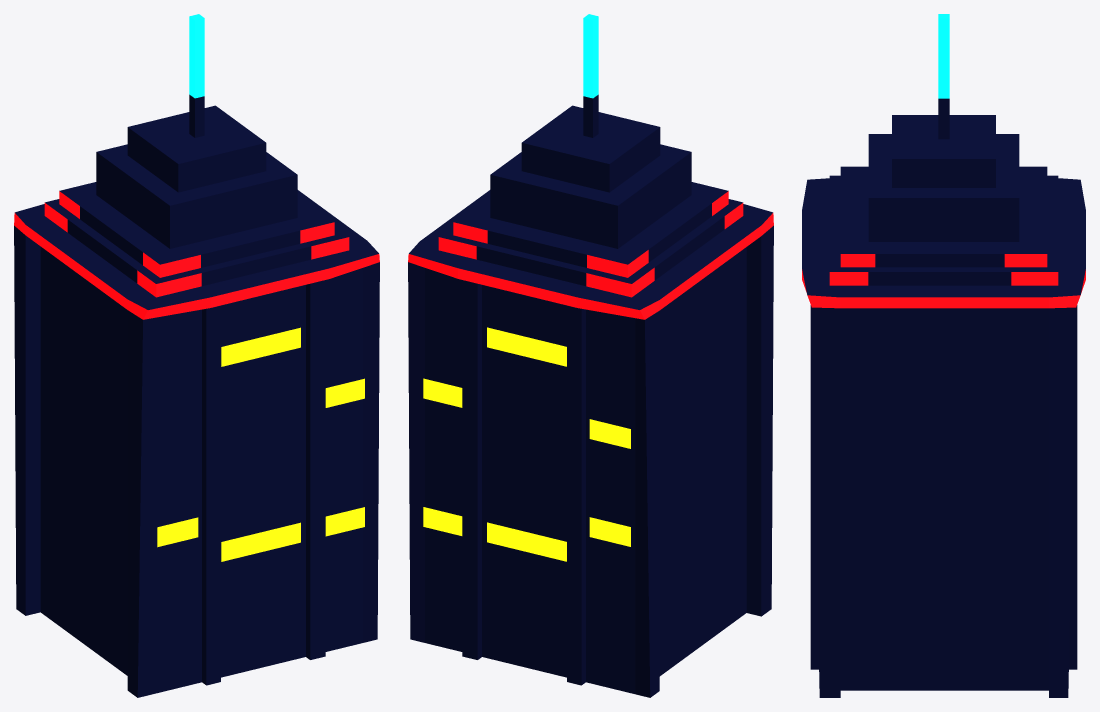
Rendered from house14.glb.
3 renders of one model, left to right at view 1: azimuth 30°, elevation 25°; view 2: azimuth 150°, elevation 25°; view 3: azimuth 270°, elevation 25°, orthographic. The views are drawn at different scales.
Visible parts, largest first — view 1: 立方体, 平面.006, 平面.007, 平面.010, 平面.008, 平面.009; view 2: 立方体, 平面, 平面.001, 平面.004, 平面.005, 平面.003, 平面.002; view 3: 立方体.
Part boxes in pixels (left/top/right/bottom): 立方体: left=14, top=14, right=379, bottom=697; 平面.006: left=221, top=327, right=300, bottom=366; 平面.007: left=221, top=522, right=300, bottom=561; 平面.010: left=157, top=517, right=198, bottom=547; 平面.008: left=325, top=507, right=364, bottom=536; 平面.009: left=325, top=378, right=364, bottom=407; 立方体: left=408, top=14, right=773, bottom=697; 平面: left=487, top=327, right=566, bottom=366; 平面.001: left=487, top=522, right=566, bottom=561; 平面.004: left=589, top=419, right=630, bottom=448; 平面.005: left=589, top=517, right=630, bottom=546; 平面.003: left=423, top=378, right=462, bottom=407; 平面.002: left=423, top=507, right=462, bottom=535; 立方体: left=802, top=14, right=1085, bottom=697.
Size of the model in its own units: 3.03 by 7.32 by 3.03.
